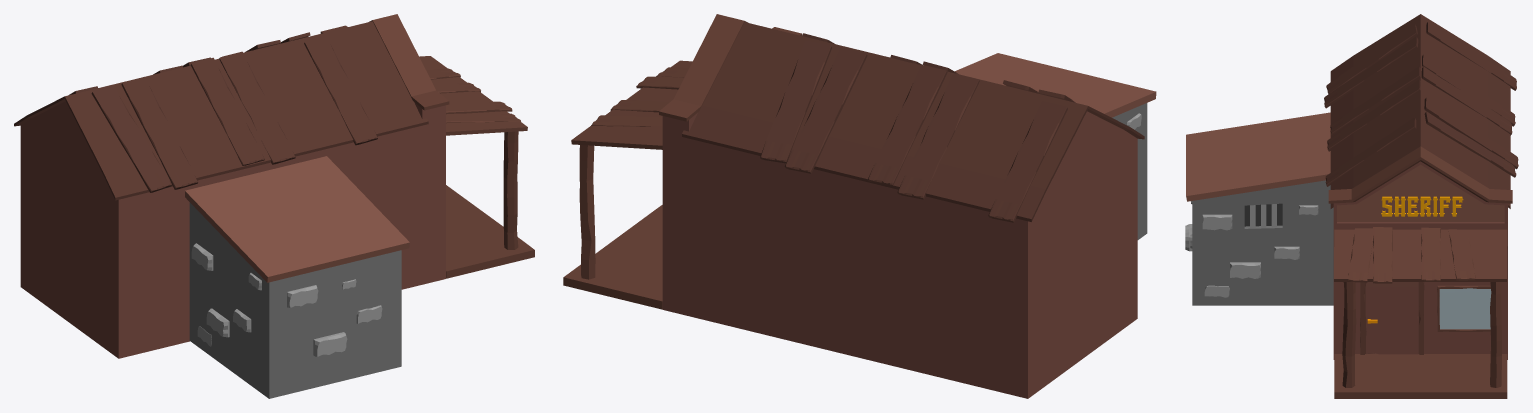
Rendered from Sheriff_Office.fbx.
The picture shows the model from 3 angles, left to right: view 1: azimuth 30°, elevation 25°; view 2: azimuth 150°, elevation 25°; view 3: azimuth 270°, elevation 25°; orthographic projection. The views are drawn at different scales.
Parts seen in each view (by area): view 1: Base, Jail, PlanksRoof, Portch, Sign, Stones, OverhangPlanks, Overhang, Circle; view 2: Base, PlanksRoof, Jail, Portch, Sign, Overhang, OverhangPlanks, Circle; view 3: Jail, Base, PlanksRoof, Sign, Portch, Overhang, OverhangPlanks, Door, Circle, Window, Stones, Text (+2 smaller).
Part boxes in pixels (left/top/right/bottom): Base: left=14, top=21, right=445, bottom=358; Jail: left=185, top=156, right=409, bottom=398; PlanksRoof: left=69, top=32, right=377, bottom=192; Portch: left=446, top=185, right=534, bottom=278; Sign: left=320, top=14, right=449, bottom=133; Stones: left=191, top=243, right=382, bottom=356; OverhangPlanks: left=426, top=68, right=520, bottom=123; Overhang: left=419, top=56, right=527, bottom=135; Circle: left=503, top=131, right=518, bottom=249; Base: left=662, top=22, right=1144, bottom=398; PlanksRoof: left=760, top=33, right=1075, bottom=222; Jail: left=955, top=53, right=1156, bottom=239; Portch: left=563, top=205, right=662, bottom=309; Sign: left=659, top=14, right=802, bottom=147; Overhang: left=571, top=60, right=692, bottom=149; OverhangPlanks: left=591, top=67, right=688, bottom=127; Circle: left=579, top=145, right=595, bottom=279; Jail: left=1186, top=112, right=1333, bottom=305; Base: left=1330, top=14, right=1510, bottom=359; PlanksRoof: left=1324, top=22, right=1518, bottom=186; Sign: left=1328, top=146, right=1512, bottom=225; Portch: left=1334, top=354, right=1507, bottom=398; Overhang: left=1334, top=229, right=1507, bottom=281; OverhangPlanks: left=1348, top=227, right=1475, bottom=283; Door: left=1365, top=282, right=1418, bottom=354; Circle: left=1342, top=282, right=1501, bottom=387; Window: left=1439, top=288, right=1491, bottom=329; Stones: left=1185, top=201, right=1318, bottom=297; Text: left=1381, top=196, right=1463, bottom=216.
Size of the model in its own units: 734 by 385 by 566.
1 material, 1 textured.
